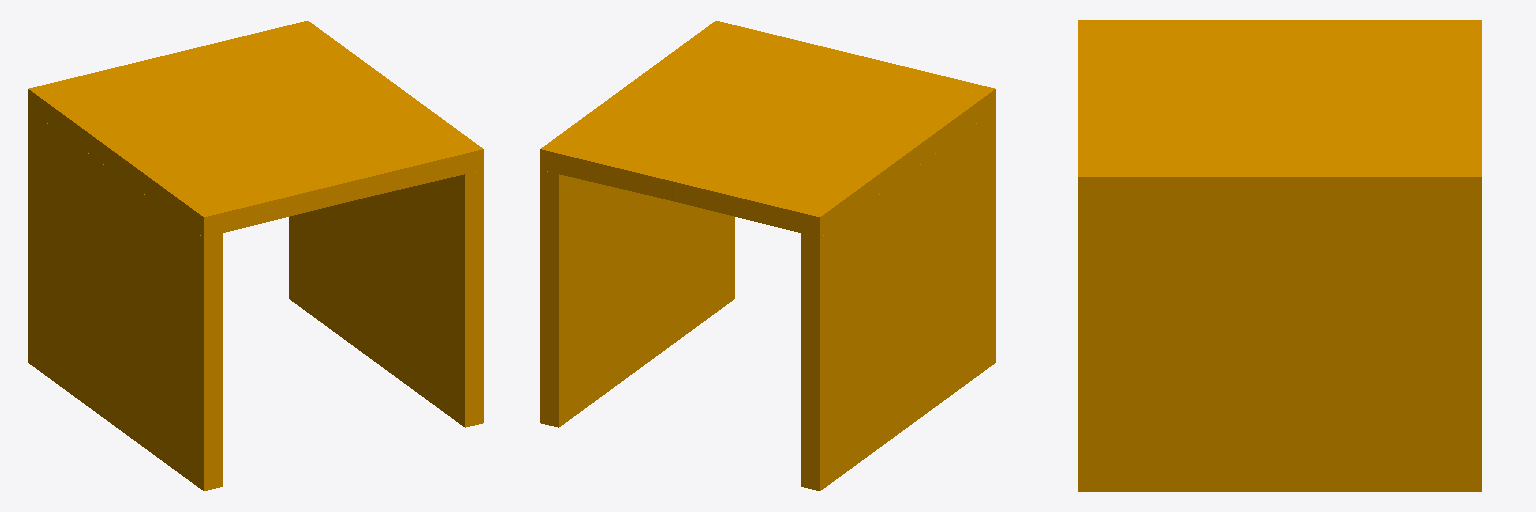
robot.urdf — open_shelf:
<?xml version="1.0" encoding="UTF-8"?>
<robot name="open_shelf">
	<link name="base">
		<collision>
			<geometry>
				<mesh filename="../vhacd/open_shelf_vhacd.obj" scale="1.0 1.0 1.0"/>
			</geometry>
			<origin xyz="0 0 0"/>
			<contact_coefficients mu="0.24" />
		</collision>
		<visual>
			<geometry>
				<mesh filename="../vhacd/open_shelf_vhacd.obj" scale="1.0 1.0 1.0"/>
			</geometry>
			<origin xyz="0 0 0"/>
		</visual>
		<inertial>
			<mass value="0"/>
			<inertia ixx="0.0" ixy="0.0" ixz="0.0" iyy="0.0" iyz="0.0" izz="0.0" />
			<origin xyz="0.2300000081144314 0.25 0.27849206948648025"/>
		</inertial>
	</link>
</robot>

--- Facts derived from the render (not from the file) ---
3 views of the same robot in one strip: view 1: azimuth 30°, elevation 25°; view 2: azimuth 150°, elevation 25°; view 3: azimuth 270°, elevation 25° (orthographic).
Model open_shelf with 1 links and 0 joints (none), rooted at base, posed every joint at zero.
Visible links, largest first — view 1: base; view 2: base; view 3: base.
Boxes of the visible links, x1,y1,x2,y2 form: base: [28, 21, 483, 490]; base: [540, 21, 995, 490]; base: [1078, 20, 1481, 491].
Size in the robot's own frame: 0.4609 by 0.5013 by 0.4313 metres.
1 mesh visuals loaded from 1 distinct referenced files (1 OBJ).